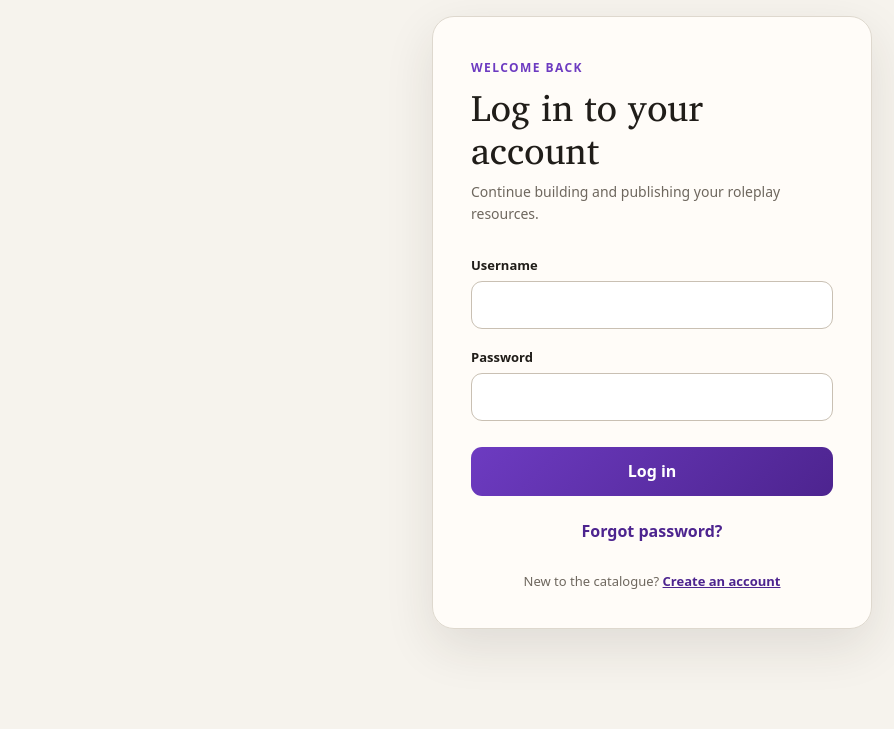
LoginPage › shows the specific invalid-credentials error for a 401
The image size is (894, 729).
Step 1. Type "alice" into the field labelled "Username" → [652, 305], box [471,281,833,329]
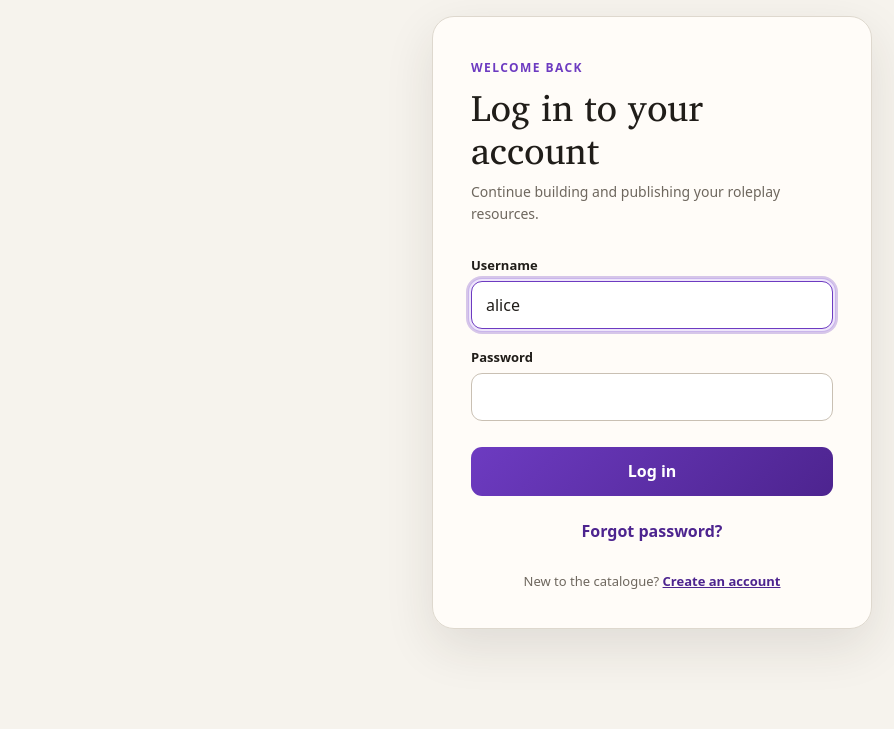
Step 2. Type "wrong" into the password field labelled "Password" → [652, 397], box [471,373,833,421]
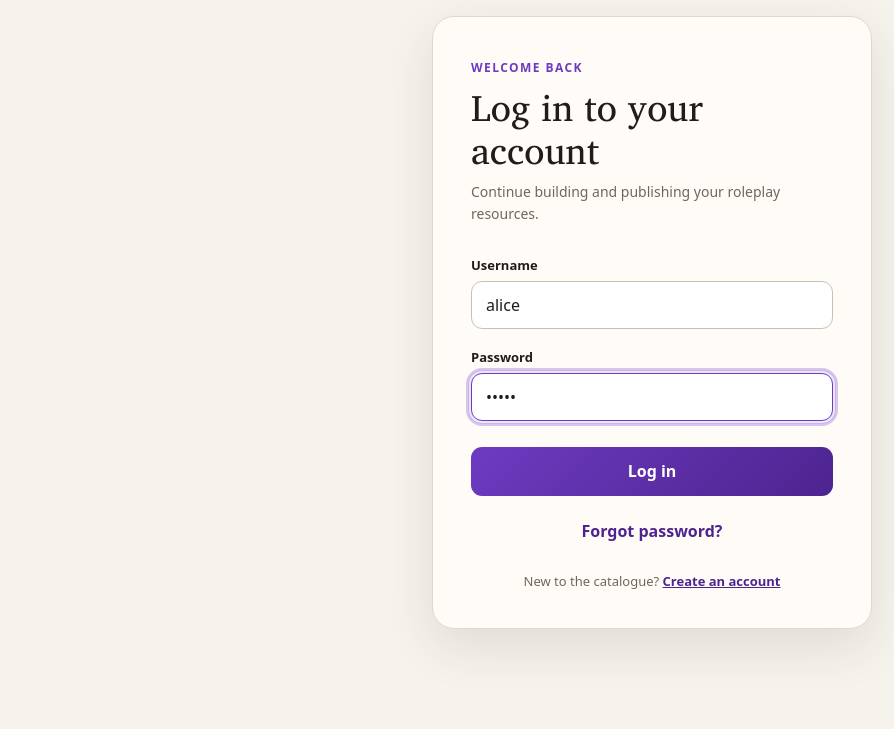
Step 3. Click the button "Log in" → [652, 471], box [471,447,833,496]
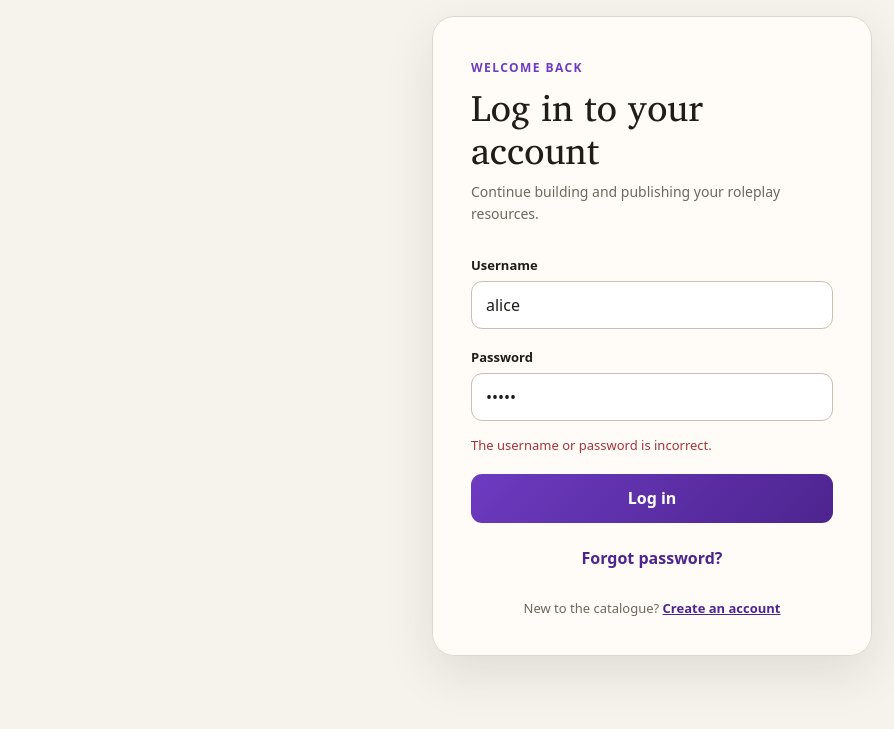
Check: the message shows "incorrect", box [471,436,712,454]
